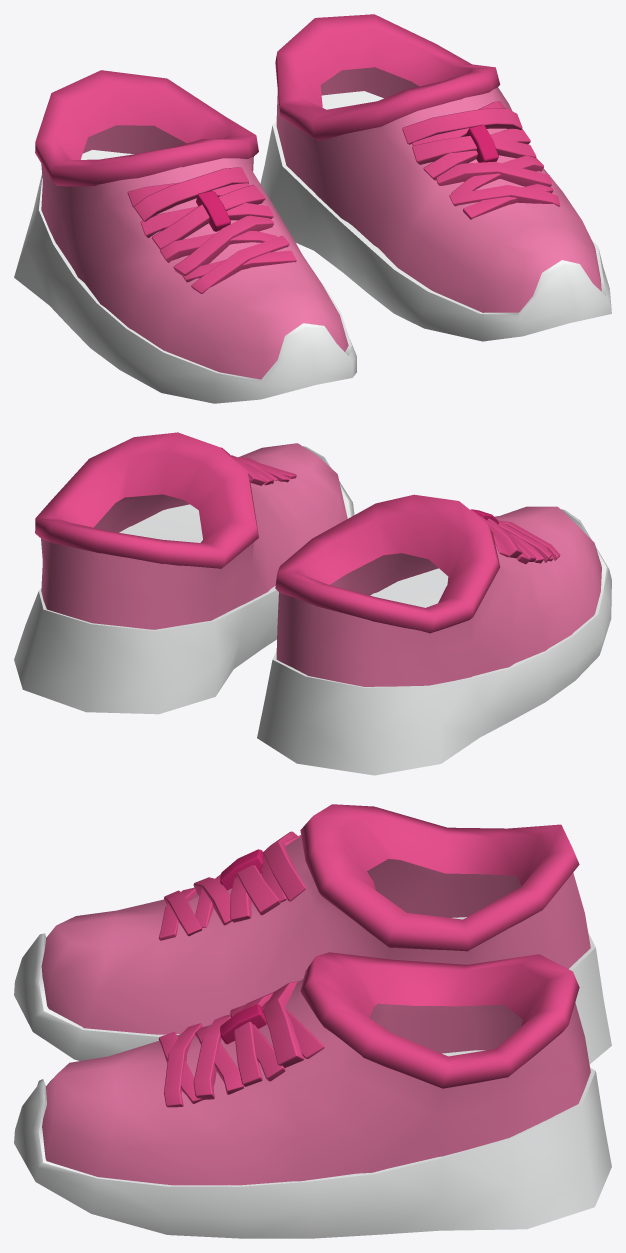
Rendered from Shoe_Sneakers_10.glb.
3 renders of one model, top to bottom at view 1: azimuth 30°, elevation 25°; view 2: azimuth 150°, elevation 25°; view 3: azimuth 270°, elevation 25°, orthographic. The views are drawn at different scales.
Visible parts, largest first — view 1: Shoe_Sneakers_10; view 2: Shoe_Sneakers_10; view 3: Shoe_Sneakers_10.
Part boxes in pixels (<box>): Shoe_Sneakers_10: <box>14,14,611,403</box>; Shoe_Sneakers_10: <box>14,432,611,775</box>; Shoe_Sneakers_10: <box>14,804,611,1238</box>.
Size of the model in its own units: 0.2601 by 0.0987 by 0.2482.
Materials: 1 (1 with a texture image).
